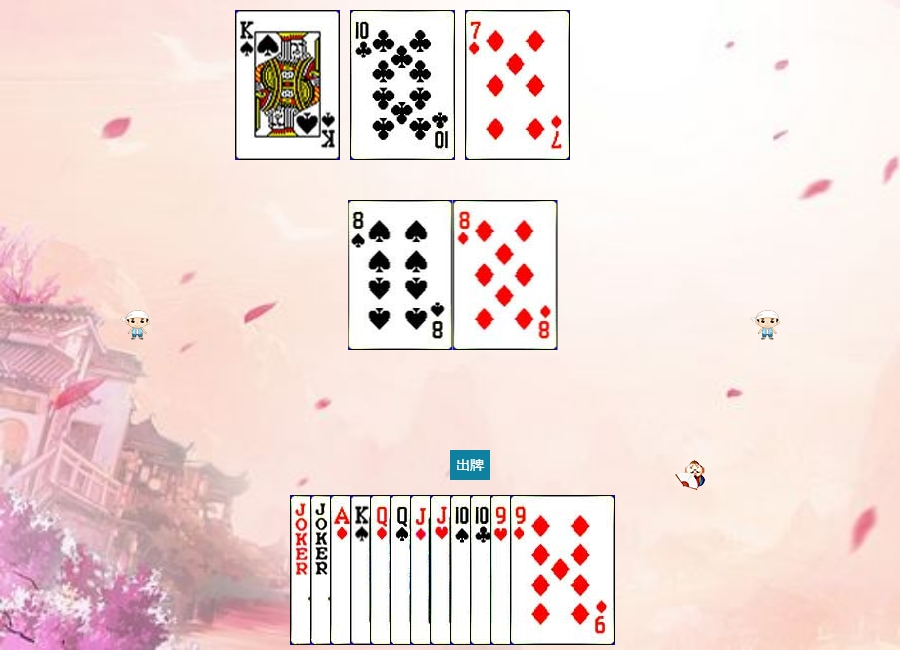10~2: (350, 10, 455, 160), (470, 495, 575, 645)
10~4: (450, 495, 555, 645)
11~1: (410, 495, 515, 645)
11~3: (430, 495, 535, 645)
12~1: (370, 495, 475, 645)
12~4: (390, 495, 495, 645)
13~4: (235, 10, 340, 160), (350, 495, 455, 645)
14~1: (330, 495, 435, 645)
17~3: (310, 495, 415, 645)
18~4: (290, 495, 395, 645)
7~1: (465, 10, 570, 160)
8~1: (453, 200, 558, 350)
8~4: (348, 200, 453, 350)
9~1: (510, 495, 615, 645)
9~3: (490, 495, 595, 645)
